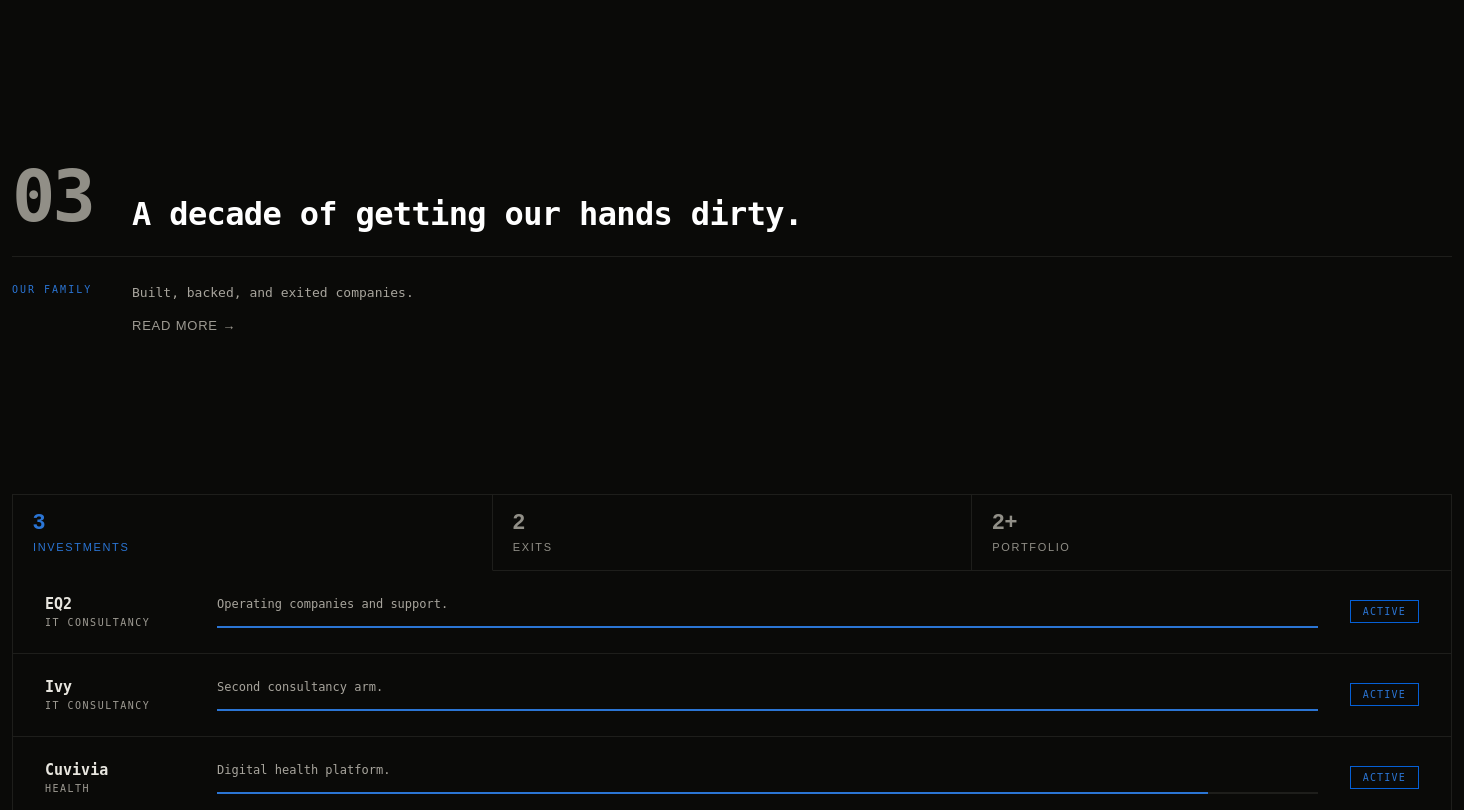
it: FamilySection › renders tabbed family panels and switches tabs
Expected: the text "EQ2" is shown, [45,595,72,613]
Expected: the text "Cuvivia" is shown, [45,761,108,779]
Click the tab "2 Exits". click: (533, 547)
box: [493,495,972,571]
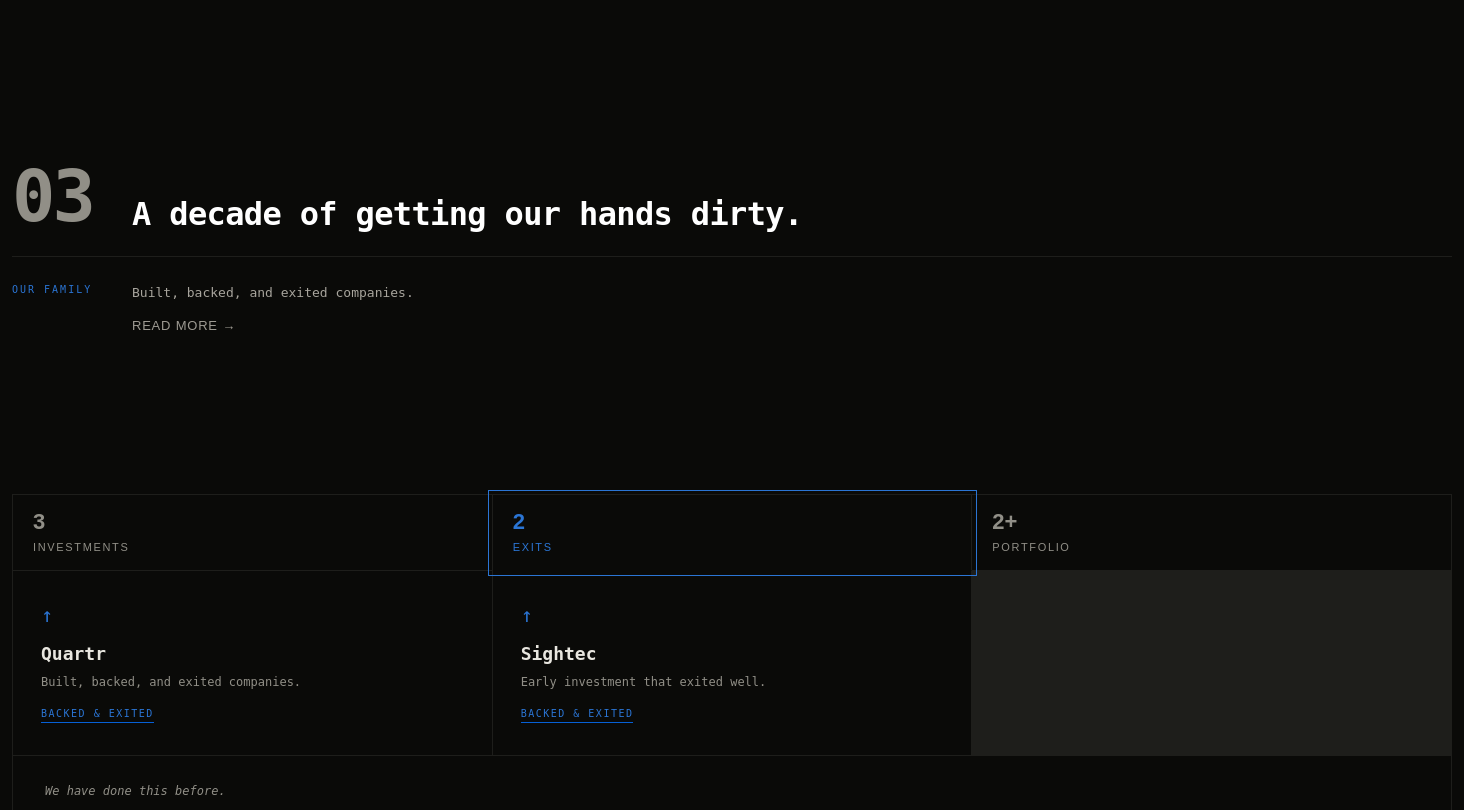
Expected: the heading "Quartr" is shown, [41,643,106,664]
Expected: the heading "Sightec" is shown, [521,643,597,664]
